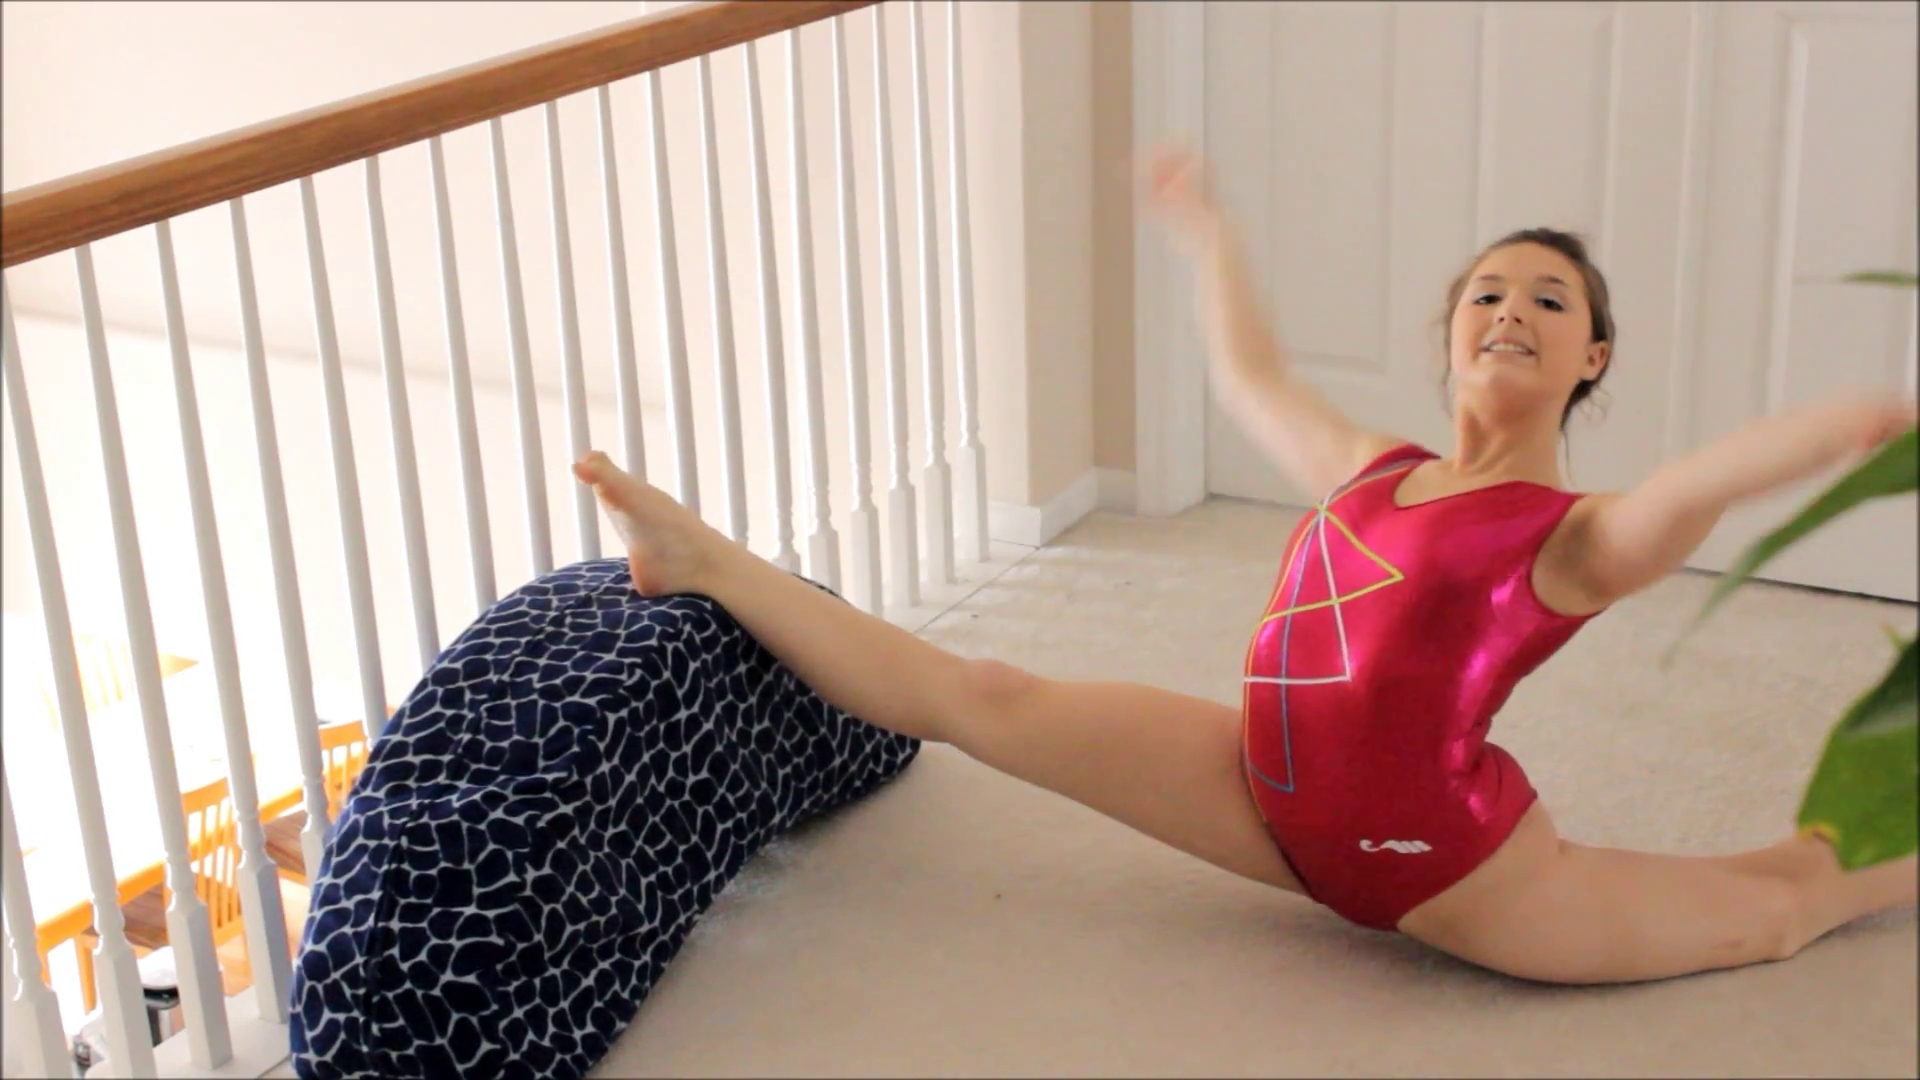person: (573, 147, 1919, 984)
